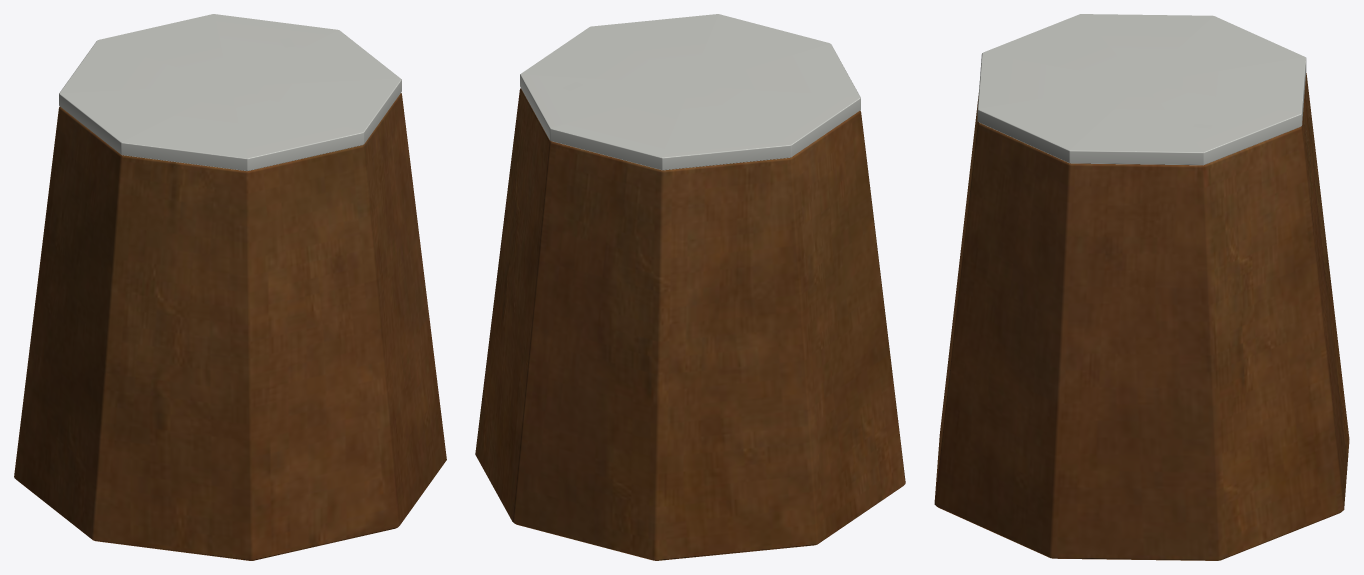
3 views of the same model, side by side, from view 1: azimuth 30°, elevation 25°; view 2: azimuth 150°, elevation 25°; view 3: azimuth 270°, elevation 25° (orthographic).
Parts seen in each view (by area): view 1: RootNode; view 2: RootNode; view 3: RootNode.
Part boxes in pixels (x1=…): RootNode: x1=14, y1=14, x2=446, y2=560; RootNode: x1=475, y1=14, x2=905, y2=560; RootNode: x1=934, y1=14, x2=1349, y2=560.
Size of the model in its own units: 0.4392 by 0.4569 by 0.4392.
1 material, 1 textured.
